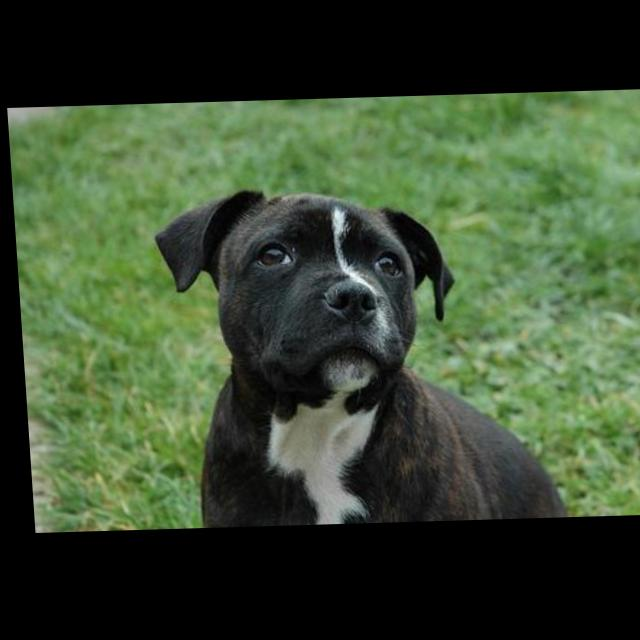amstaff: (149, 182, 571, 530)
